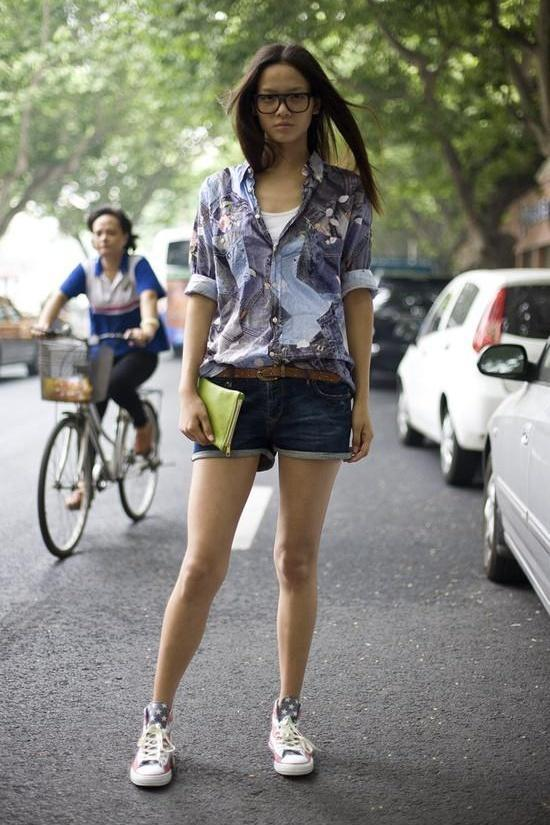shirt: (187, 155, 380, 379)
short: (189, 363, 356, 473)
